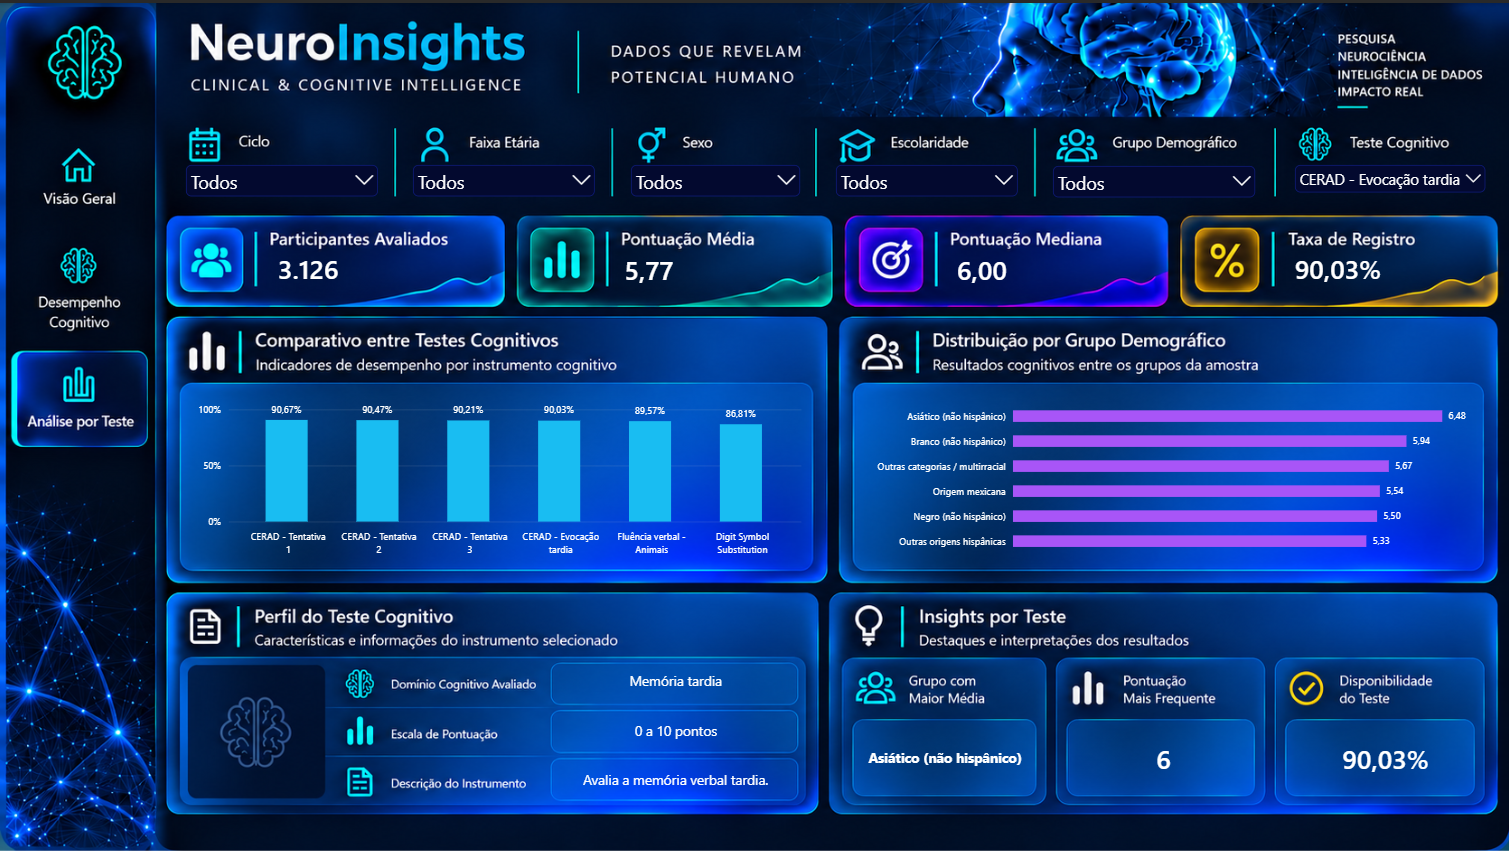

Layout of this report page (visuals, bound fields, positions):
{"tool":"powerbi","page":{"name":"Análise por Teste","canvas":[1920,1080],"ordinal":2},"visuals":[{"type":"card","fields":{"Values":["_Medidas.Participantes Avaliados Teste"]},"box":[275.8,306.6,234.6,65.1],"z":0},{"type":"card","fields":{"Values":["_Medidas.Pontuação Média"]},"box":[673.8,307.5,304.9,64.8],"z":1000},{"type":"card","fields":{"Values":["_Medidas.Taxa de Registro por Teste (%)"]},"box":[1548.3,306.6,304.9,64.8],"z":2000},{"type":"card","fields":{"Values":["_Medidas.Pontuação Mediana"]},"box":[1097,307,304.9,64.8],"z":3000},{"type":"slicer","fields":{"Values":["dim_ciclo.ciclo"]},"box":[233.1,200.8,253.8,56.9],"z":4000},{"type":"slicer","fields":{"Values":["dim_participante.faixa_etaria"]},"box":[520.9,200.8,241.4,47],"z":5000},{"type":"slicer","fields":{"Values":["dim_participante.Sexo"]},"box":[797.9,200.8,224.9,57.2],"z":6000},{"type":"slicer","fields":{"Values":["dim_participante.Escolaridade"]},"box":[1058.5,200.8,240.8,47.7],"z":7000},{"type":"slicer","fields":{"Values":["dim_participante.Grupo Demográfico"]},"box":[1333.8,202.5,267.3,58.2],"z":8000},{"type":"slicer","fields":{"Values":["dim_teste.teste"]},"box":[1641.8,200.9,251.8,58.2],"z":9000},{"type":"clusteredColumnChart","fields":{"Category":["dim_teste.teste"],"Y":["_Medidas.Taxa de Registro por Teste (%)"]},"box":[232.9,483,803.3,238.1],"z":10000},{"type":"clusteredBarChart","fields":{"Category":["dim_participante.Grupo Demográfico"],"Y":["_Medidas.Pontuação Média"]},"box":[1086.4,483,807.2,238.2],"z":11000},{"type":"card","fields":{"Values":["_Medidas.Domínio Cognitivo Selecionado"]},"box":[706.6,837.6,307,52.9],"z":12000},{"type":"card","fields":{"Values":["_Medidas.Escala de Pontuação"]},"box":[706.6,901.1,307,52.9],"z":13000},{"type":"card","fields":{"Values":["_Medidas.Descrição do Instrumento"]},"box":[694.7,963.3,329.5,52.9],"z":14000},{"type":"card","fields":{"Values":["_Medidas.Grupo com Maior Média"]},"box":[1086.8,911.3,231.5,101.8],"z":15000},{"type":"card","fields":{"Values":["_Medidas.Pontuação Mais Frequente"]},"box":[1359.6,911.3,240.4,101.8],"z":16000},{"type":"card","fields":{"Values":["_Medidas.Taxa de Registro por Teste (%)"]},"box":[1641.3,911.3,240.4,101.8],"z":17000},{"type":"actionButton","box":[41.9,297.3,118.2,81.3],"z":17001},{"type":"actionButton","box":[53.4,183,95.3,68.6],"z":17002}]}

Visuals, with their boxes on the page's 1920x1080 design canvas (x1, y1, x2, y2). These are canvas units, not pixel positions in the 1509x851 screenshot, which may show the page scaled, cropped or inside an application window:
card - _Medidas.Participantes Avaliados Teste: x1=276 y1=307 x2=510 y2=372
card - _Medidas.Pontuação Média: x1=674 y1=308 x2=979 y2=372
card - _Medidas.Taxa de Registro por Teste (%): x1=1548 y1=307 x2=1853 y2=371
card - _Medidas.Pontuação Mediana: x1=1097 y1=307 x2=1402 y2=372
slicer - dim_ciclo.ciclo: x1=233 y1=201 x2=487 y2=258
slicer - dim_participante.faixa_etaria: x1=521 y1=201 x2=762 y2=248
slicer - dim_participante.Sexo: x1=798 y1=201 x2=1023 y2=258
slicer - dim_participante.Escolaridade: x1=1058 y1=201 x2=1299 y2=248
slicer - dim_participante.Grupo Demográfico: x1=1334 y1=202 x2=1601 y2=261
slicer - dim_teste.teste: x1=1642 y1=201 x2=1894 y2=259
clusteredColumnChart - dim_teste.teste x _Medidas.Taxa de Registro por Teste (%): x1=233 y1=483 x2=1036 y2=721
clusteredBarChart - dim_participante.Grupo Demográfico x _Medidas.Pontuação Média: x1=1086 y1=483 x2=1894 y2=721
card - _Medidas.Domínio Cognitivo Selecionado: x1=707 y1=838 x2=1014 y2=890
card - _Medidas.Escala de Pontuação: x1=707 y1=901 x2=1014 y2=954
card - _Medidas.Descrição do Instrumento: x1=695 y1=963 x2=1024 y2=1016
card - _Medidas.Grupo com Maior Média: x1=1087 y1=911 x2=1318 y2=1013
card - _Medidas.Pontuação Mais Frequente: x1=1360 y1=911 x2=1600 y2=1013
card - _Medidas.Taxa de Registro por Teste (%): x1=1641 y1=911 x2=1882 y2=1013
actionButton: x1=42 y1=297 x2=160 y2=379
actionButton: x1=53 y1=183 x2=149 y2=252
